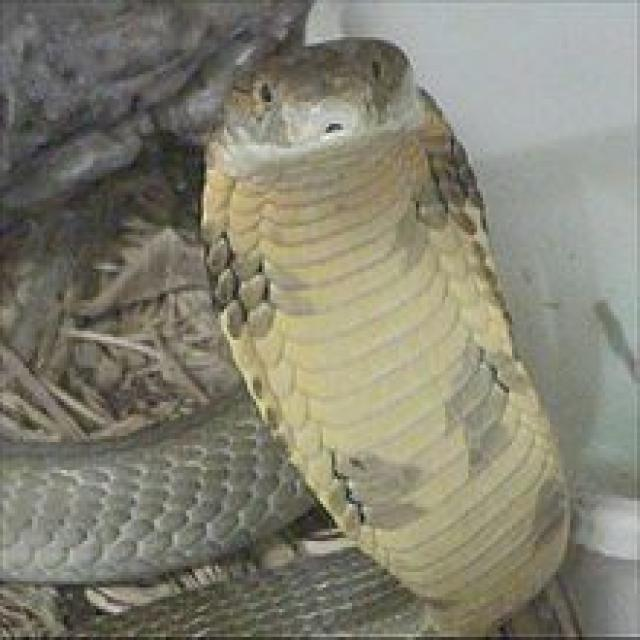Snake: (0, 6, 582, 637)
